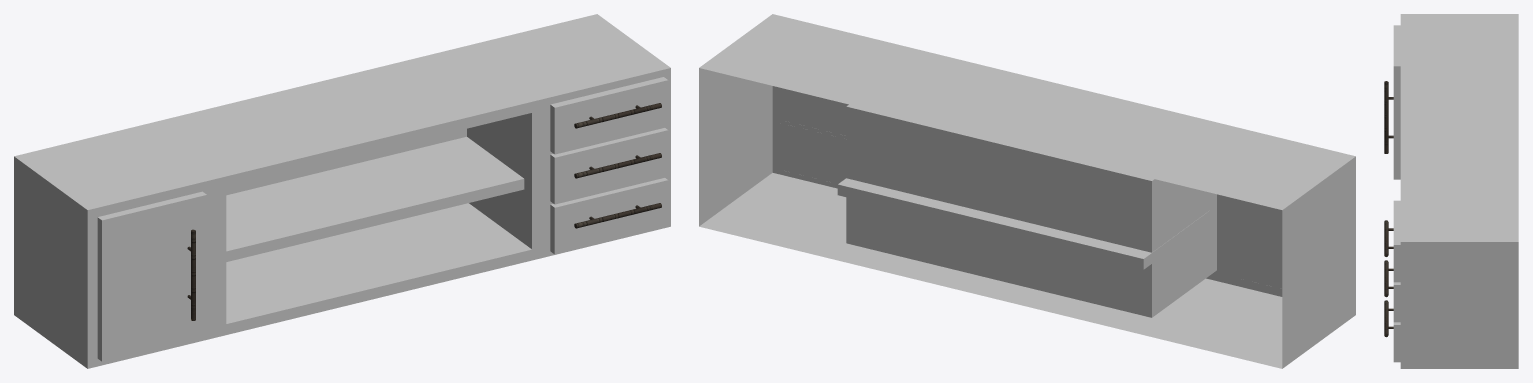
File: Prop_TVCabinet.FBX
The picture shows the model from 3 angles, left to right: view 1: azimuth 30°, elevation 25°; view 2: azimuth 150°, elevation 25°; view 3: azimuth 270°, elevation 25°; orthographic projection. The views are drawn at different scales.
Parts seen in each view (by area): view 1: SM_Prop_TVCabinet; view 2: SM_Prop_TVCabinet; view 3: SM_Prop_TVCabinet.
Part boxes in pixels (x1,y1,x2,y2): SM_Prop_TVCabinet: (14, 14, 670, 368); SM_Prop_TVCabinet: (699, 14, 1355, 368); SM_Prop_TVCabinet: (1384, 14, 1518, 368).
Bounding box in the file's own units: 2.78 × 0.7223 × 0.6933.
